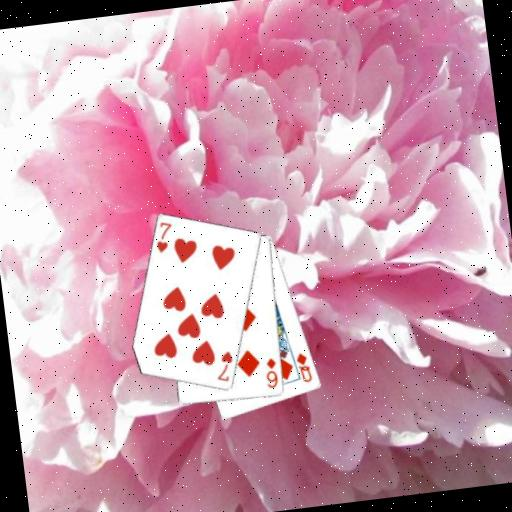6D: (262, 355, 281, 391)
7H: (151, 218, 177, 255), (211, 348, 237, 384)
QD: (293, 349, 315, 385)
